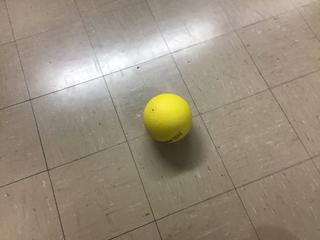power_cell: (135, 88, 195, 146)
